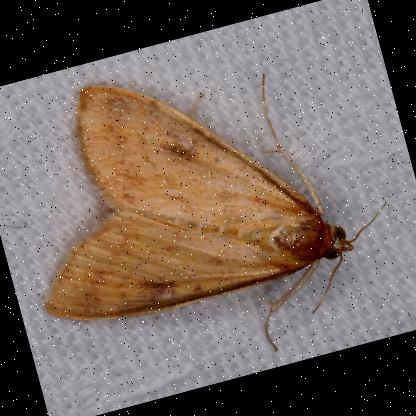Asian Corn Borer Moth: (0, 14, 416, 411)
